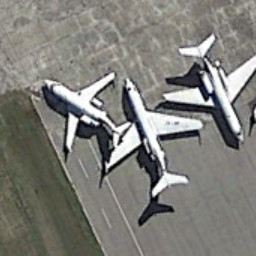Airplane: (98, 76, 204, 204), (163, 31, 256, 147), (27, 60, 132, 156)
